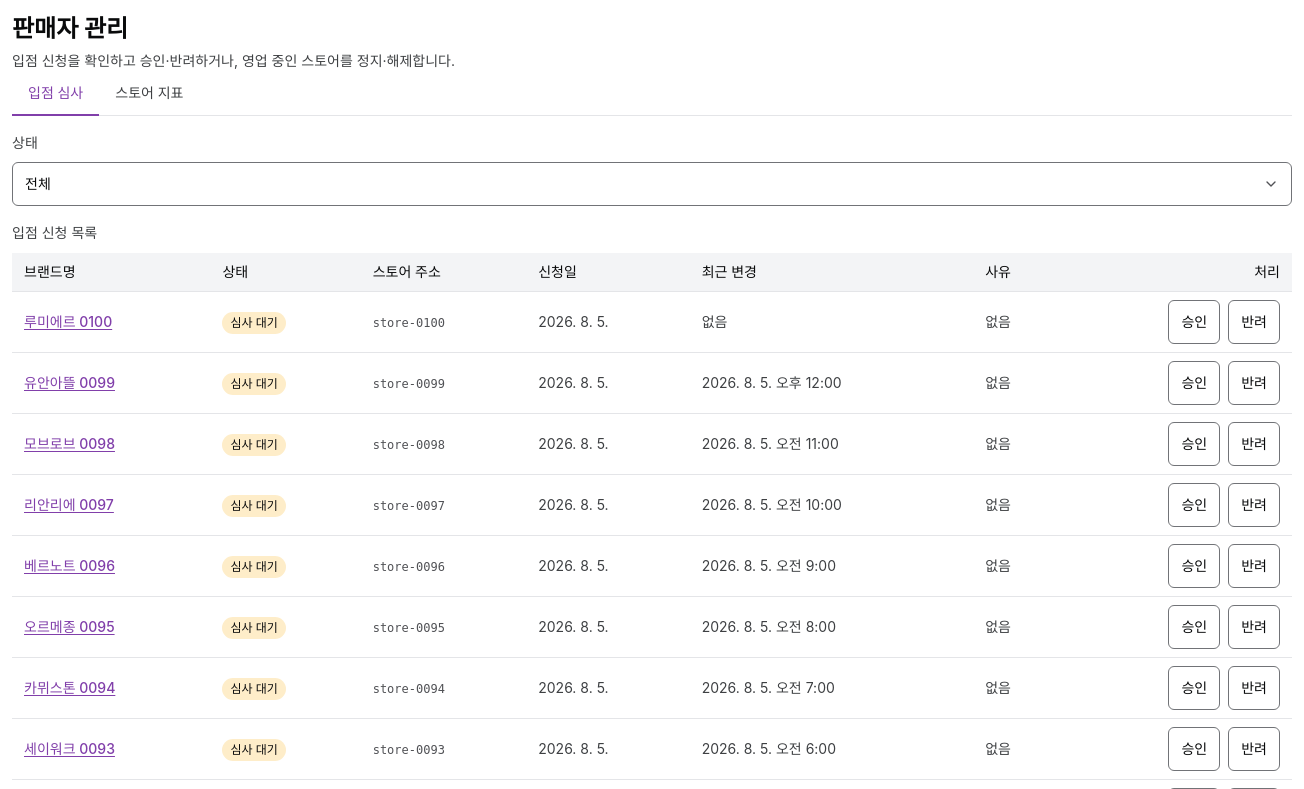
Scenario: 지표 (F1) › says 판매 없음 — never 0% — for a store that has never sold
Click the tab "스토어 지표": {"x": 149, "y": 94} [99,72,199,116]
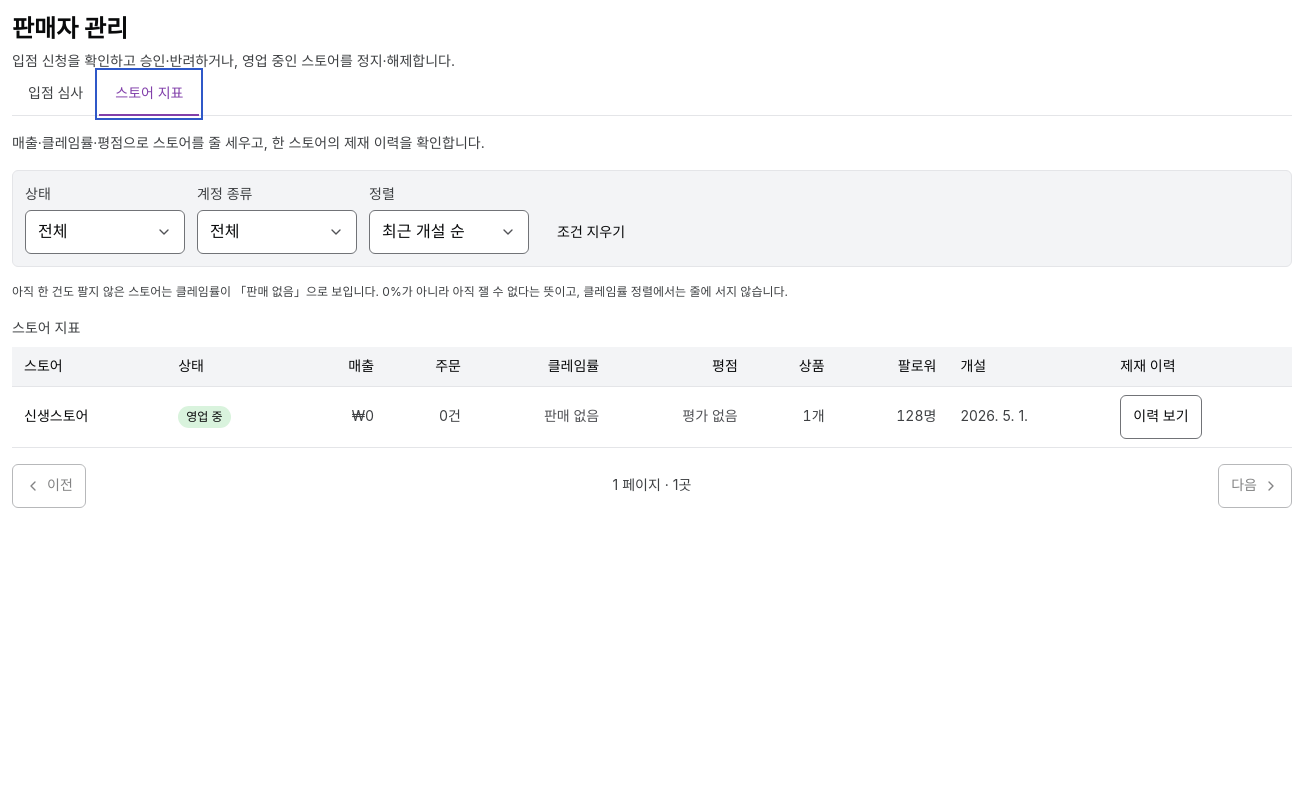
Check: the table "스토어 지표" is shown, box [12,317,1292,448]
Check: the text "판매 없음" is shown, box [544,407,599,424]
